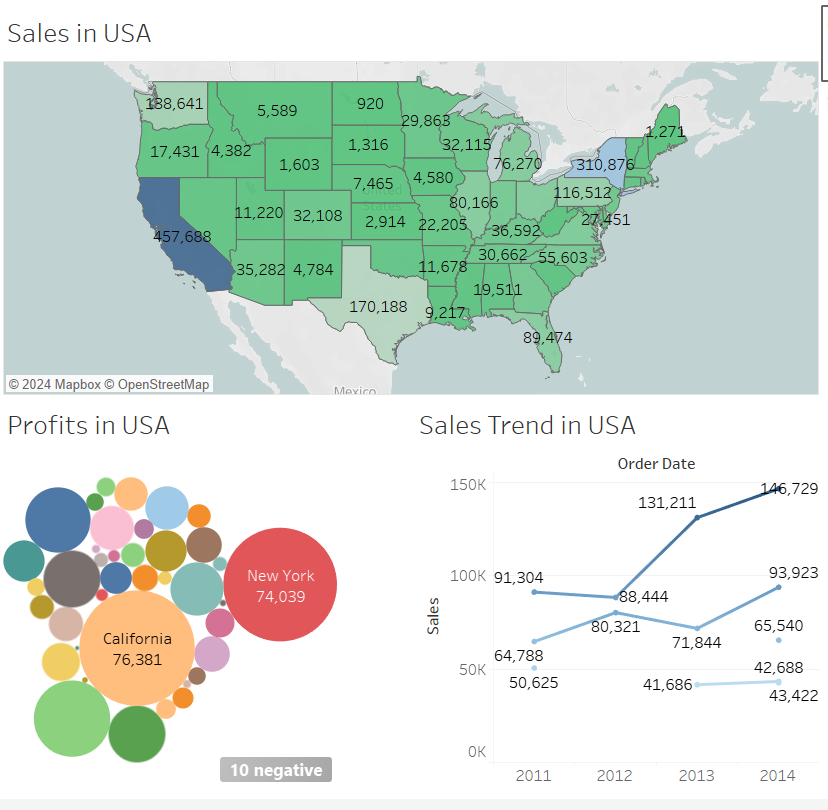

This screenshot's page, from the dashboard's own definition file:
{"tool":"tableau","page":{"name":"Sales & Profits in USA","canvas":[1000,800],"ordinal":0},"visuals":[{"type":"worksheet","title":"Sales in USA","mark":"Automatic","box":[8,8,824,392]},{"type":"legend","title":"Sales in USA","param":"[federated.1anpqt800gxz851fb867h1qz6cn6].[sum:Sales:qk]","box":[832,8,160,73]},{"type":"legend","title":"Profits in USA","param":"[federated.1anpqt800gxz851fb867h1qz6cn6].[none:State:nk]","box":[832,81,160,711]},{"type":"worksheet","title":"Profits in USA","mark":"Circle","box":[8,400,412,392]},{"type":"worksheet","title":"Sales Trend in USA","mark":"Automatic","rows":["Sales"],"cols":["Order Date"],"box":[420,400,412,392]}]}

Visuals, with their boxes on the page's 1000x800 design canvas (x1, y1, x2, y2). These are canvas units, not pixel positions in the 828x810 screenshot, which may show the page scaled, cropped or inside an application window:
"Sales in USA" worksheet: bbox=(8, 8, 832, 400)
"Sales in USA" legend: bbox=(832, 8, 992, 81)
"Profits in USA" legend: bbox=(832, 81, 992, 792)
"Profits in USA" worksheet (Circle marks): bbox=(8, 400, 420, 792)
"Sales Trend in USA" worksheet: bbox=(420, 400, 832, 792)
